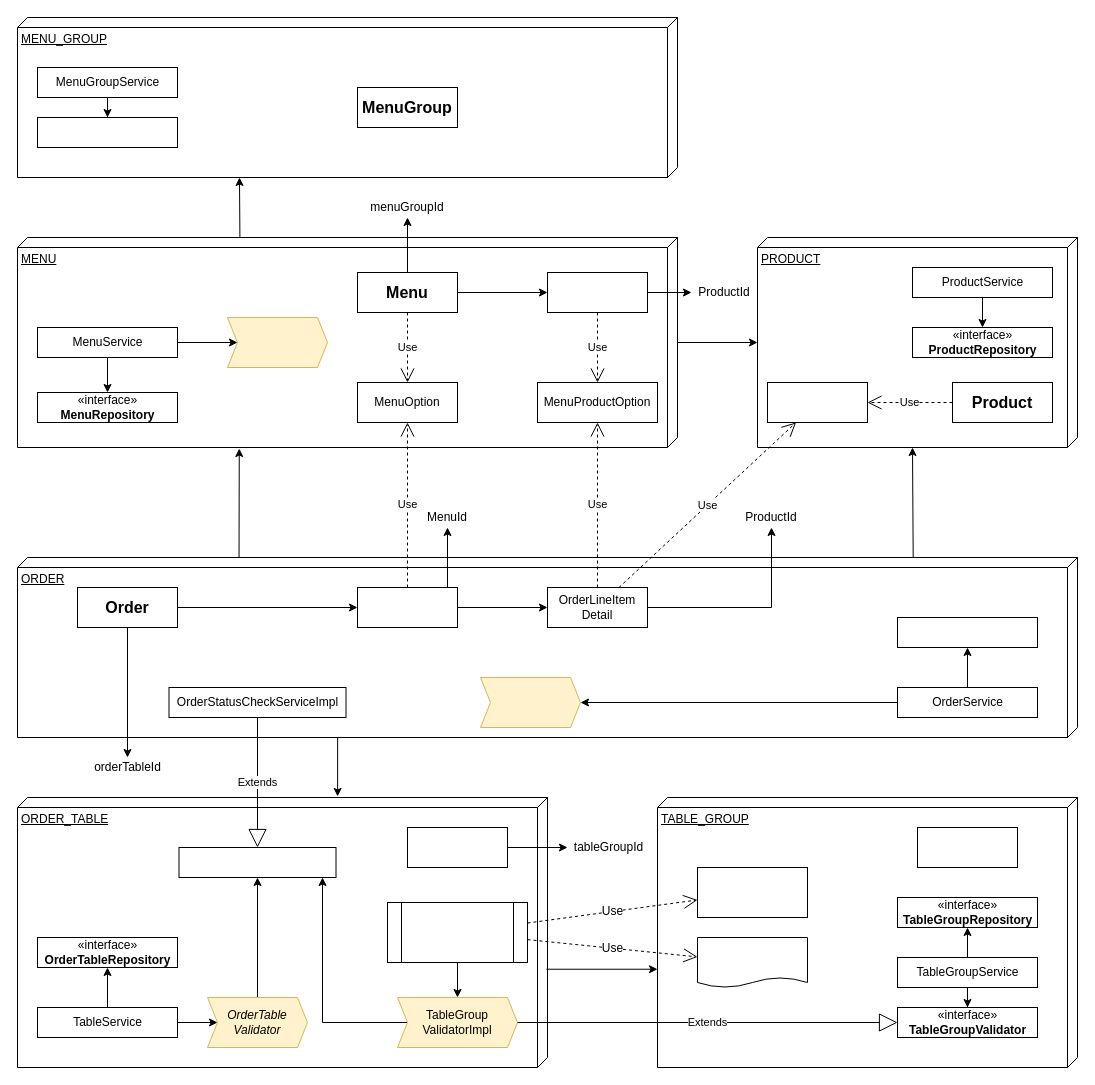
Image size: 1095x1085. Some labels were removed from this diagram. Here are the shapes that lost their labels. From the top down, the box of each, then its label:
(36, 116, 178, 148): «interface» MenuGroupRepository
(546, 272, 648, 312): MenuProduct
(226, 316, 328, 368): Menu Validator
(766, 382, 868, 422): ProductOption
(356, 586, 458, 628): OrderLineItem
(896, 616, 1038, 648): «interface» OrderRepository
(480, 676, 580, 728): Order Validator
(178, 846, 336, 878): «interface» OrderStatusCheckService
(406, 826, 508, 868): OrderTable
(916, 826, 1018, 868): TableGroup
(696, 866, 808, 918): TableGrouping Service
(386, 902, 528, 962): TableGrouping EventHandler
(696, 936, 808, 988): TableUngrouped Event
